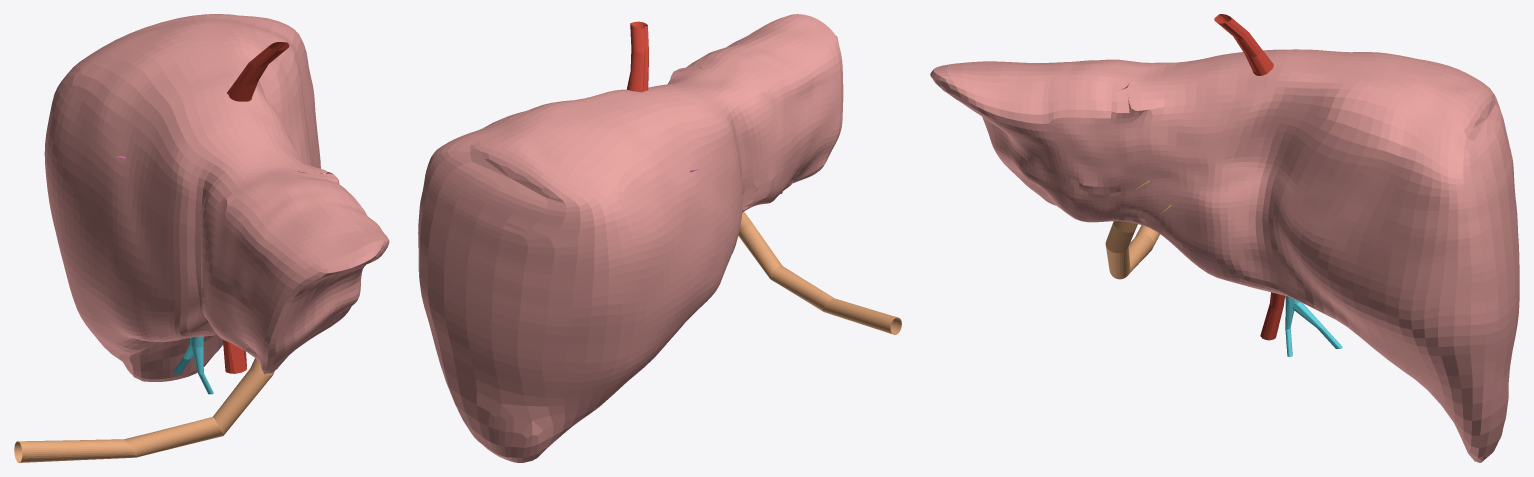
Rendered from Veinswithtranslucentouter1.glb.
3 renders of one model, left to right at view 1: azimuth 30°, elevation 25°; view 2: azimuth 150°, elevation 25°; view 3: azimuth 270°, elevation 25°, orthographic. The views are drawn at different scales.
Visible parts, largest first — view 1: Cube, Circle; view 2: Cube, Circle; view 3: Cube, Circle.
Boxes of the visible parts, left/top/right/bottom form: Cube: left=44, top=14, right=389, bottom=381; Circle: left=14, top=42, right=289, bottom=462; Cube: left=418, top=14, right=843, bottom=462; Circle: left=626, top=21, right=901, bottom=334; Cube: left=930, top=49, right=1519, bottom=462; Circle: left=1105, top=14, right=1342, bottom=356.
Size of the model in its own units: 59.57 by 57.27 by 72.15.
